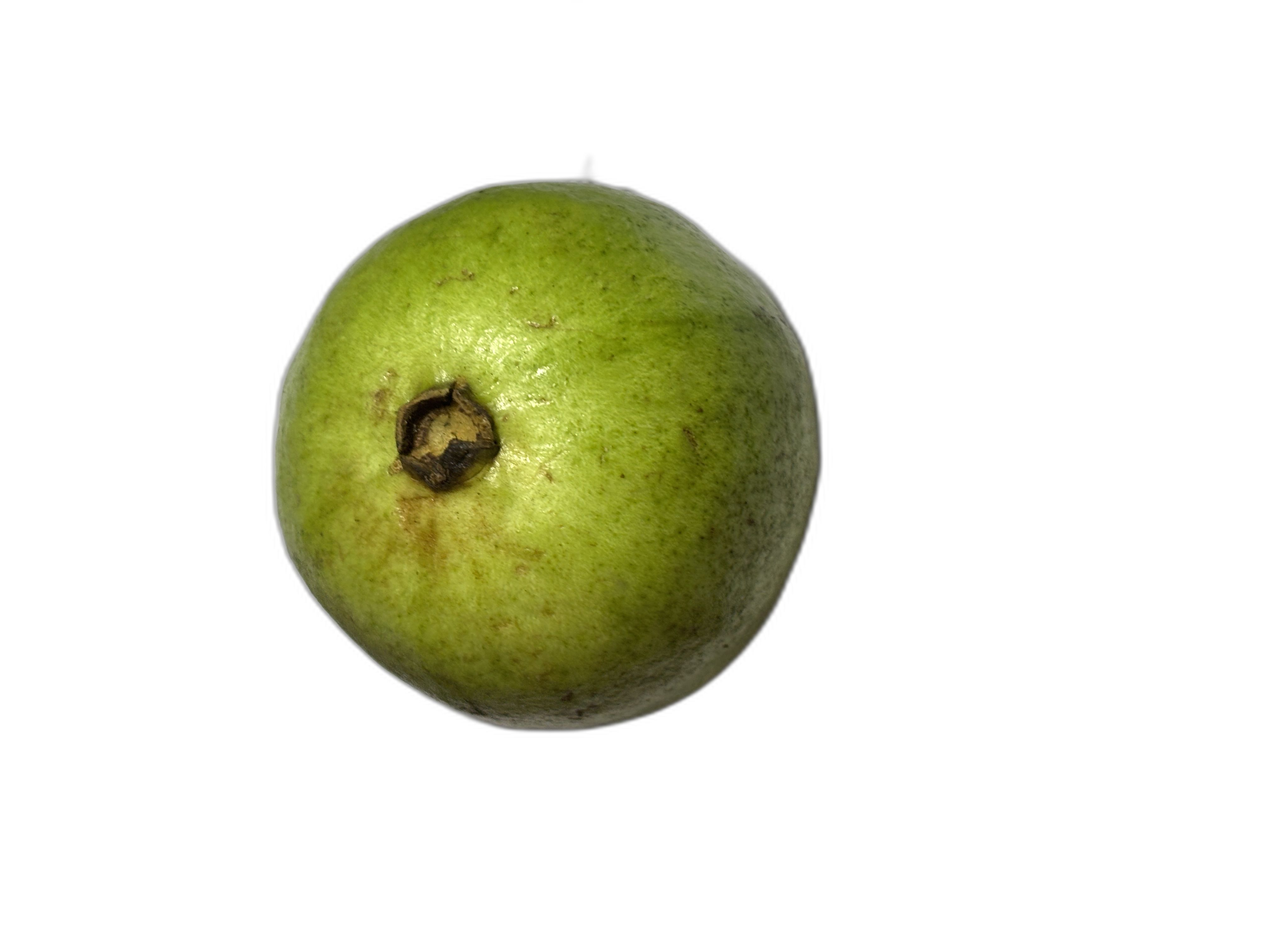guava: (191, 160, 1269, 778)
